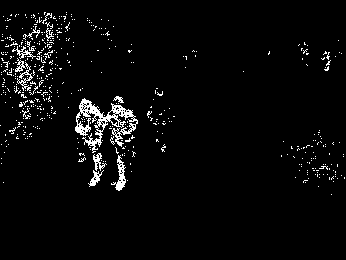person: (105, 97, 137, 191), (76, 97, 105, 186)
